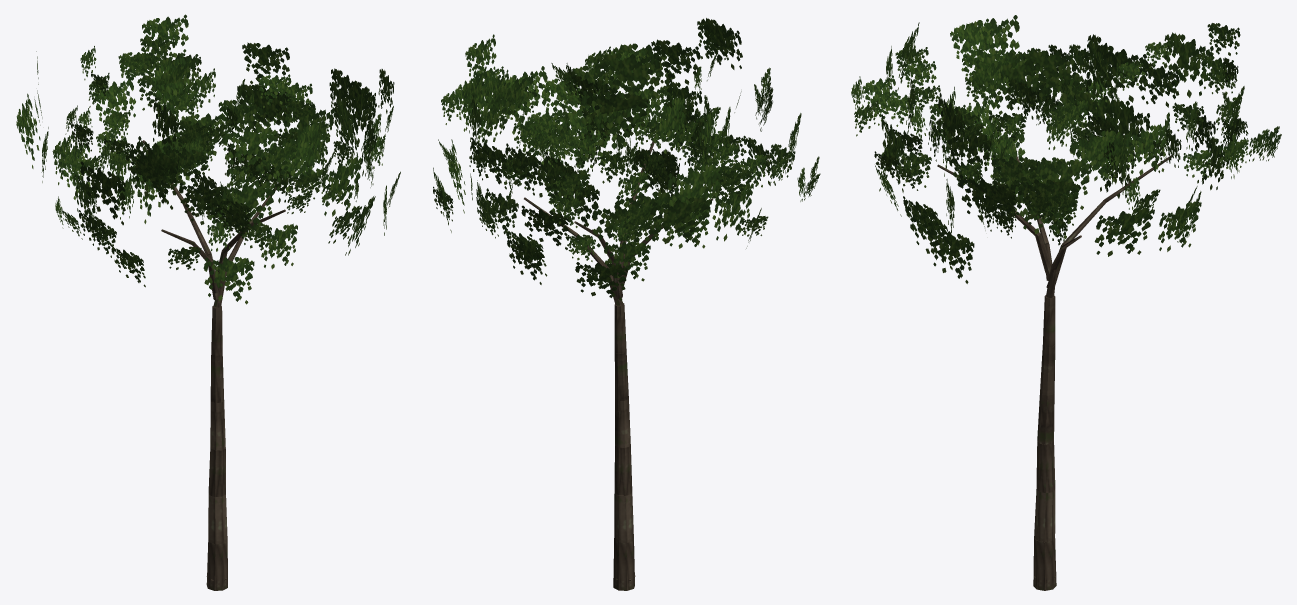
The model's file is Birch.fbx.
3 renders of one model, left to right at view 1: azimuth 30°, elevation 25°; view 2: azimuth 150°, elevation 25°; view 3: azimuth 270°, elevation 25°, orthographic. The views are drawn at different scales.
Parts seen in each view (by area): view 1: Birch; view 2: Birch; view 3: Birch.
Part boxes in pixels (x1,y1,x2,y2): Birch: [16, 14, 400, 590]; Birch: [433, 18, 820, 590]; Birch: [851, 15, 1281, 590].
Size of the model in its own units: 8.12 by 11.98 by 8.73.
